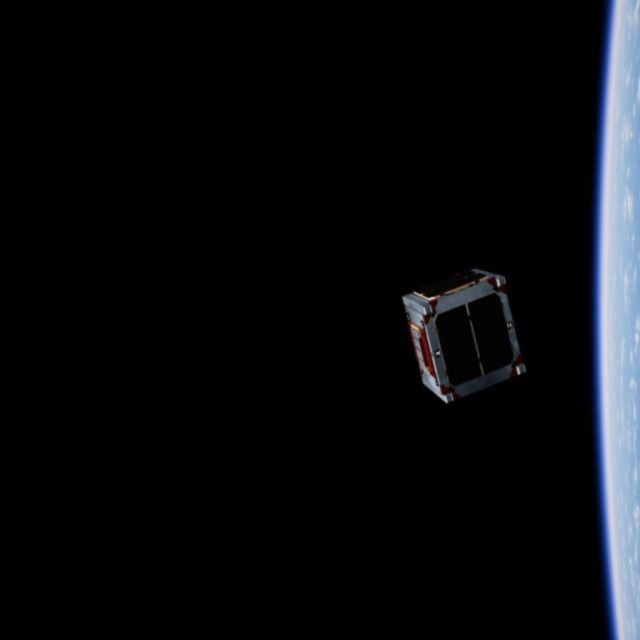medium_debris: (392, 266, 539, 413)
